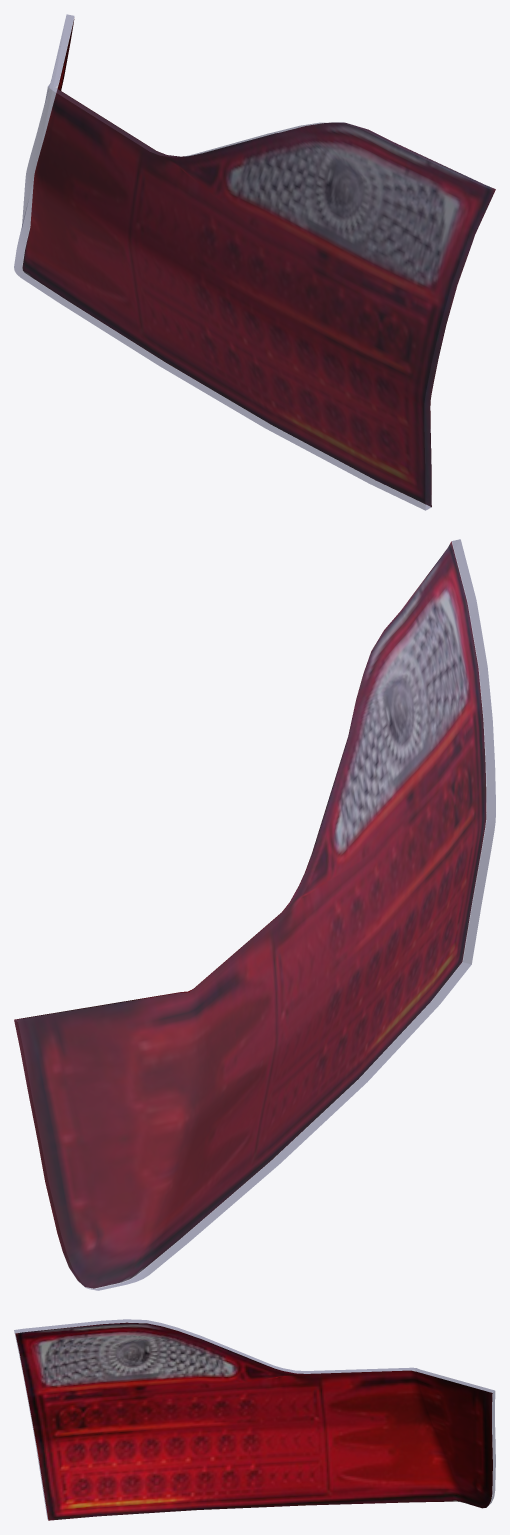
The picture shows the model from 3 angles, top to bottom: view 1: azimuth 30°, elevation 25°; view 2: azimuth 150°, elevation 25°; view 3: azimuth 270°, elevation 25°; orthographic projection. The views are drawn at different scales.
Visible parts, largest first — view 1: H126_541D_R_H126_541D_R_2_DTaSI, H126_541D_R_1_N_H126_541D_R; view 2: H126_541D_R_H126_541D_R_2_DTaSI, H126_541D_R_1_N_H126_541D_R; view 3: H126_541D_R_1_N_H126_541D_R, H126_541D_R_H126_541D_R_2_DTaSI.
Boxes of the visible parts, x1,y1,x2,y2 form: H126_541D_R_H126_541D_R_2_DTaSI: [14, 14, 495, 510]; H126_541D_R_1_N_H126_541D_R: [22, 19, 495, 507]; H126_541D_R_H126_541D_R_2_DTaSI: [14, 539, 495, 1290]; H126_541D_R_1_N_H126_541D_R: [14, 541, 486, 1288]; H126_541D_R_1_N_H126_541D_R: [15, 1322, 492, 1520]; H126_541D_R_H126_541D_R_2_DTaSI: [14, 1319, 495, 1519].
Size of the model in its own units: 8.48 by 21.66 by 46.9.
